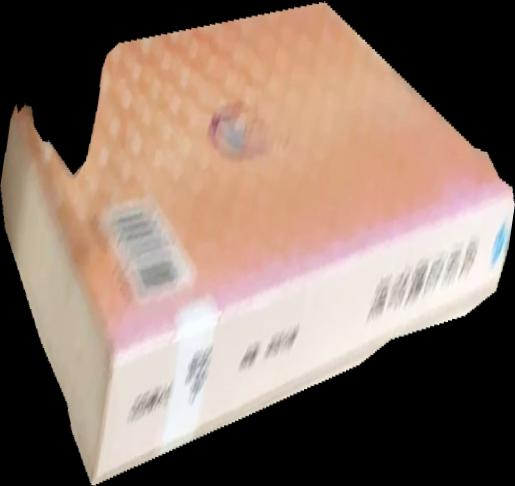flat: (1, 1, 515, 486)
